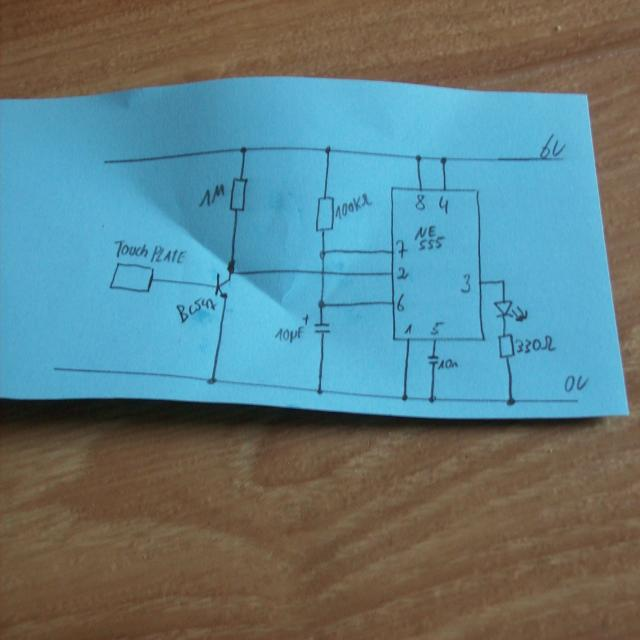capacitor: (302, 312, 331, 334), (426, 352, 438, 364)
crossover: (318, 267, 326, 276)
diode: (492, 299, 528, 322)
junction: (226, 259, 236, 274), (505, 395, 516, 406), (205, 376, 218, 385), (238, 144, 248, 155), (317, 297, 326, 309), (323, 143, 332, 155), (427, 394, 437, 404), (439, 154, 448, 165), (319, 248, 327, 260), (315, 386, 324, 396), (400, 393, 410, 402), (414, 152, 422, 162), (500, 276, 506, 284)
resistor: (314, 194, 334, 233), (228, 176, 247, 213), (497, 332, 515, 360)
terminal: (108, 260, 154, 294), (572, 395, 582, 405), (51, 364, 61, 373), (557, 154, 566, 162), (100, 157, 110, 164)
text: (114, 238, 186, 265), (176, 294, 216, 323), (334, 192, 372, 220), (413, 224, 446, 252), (514, 333, 556, 354), (538, 132, 566, 158), (198, 182, 225, 208), (274, 325, 305, 343), (564, 373, 589, 393), (395, 238, 408, 259), (429, 320, 445, 336), (459, 272, 471, 293), (438, 194, 450, 215), (438, 358, 458, 370), (414, 192, 426, 211), (396, 291, 406, 312), (396, 265, 408, 281), (403, 321, 412, 335)
transistor: (213, 272, 231, 300)
